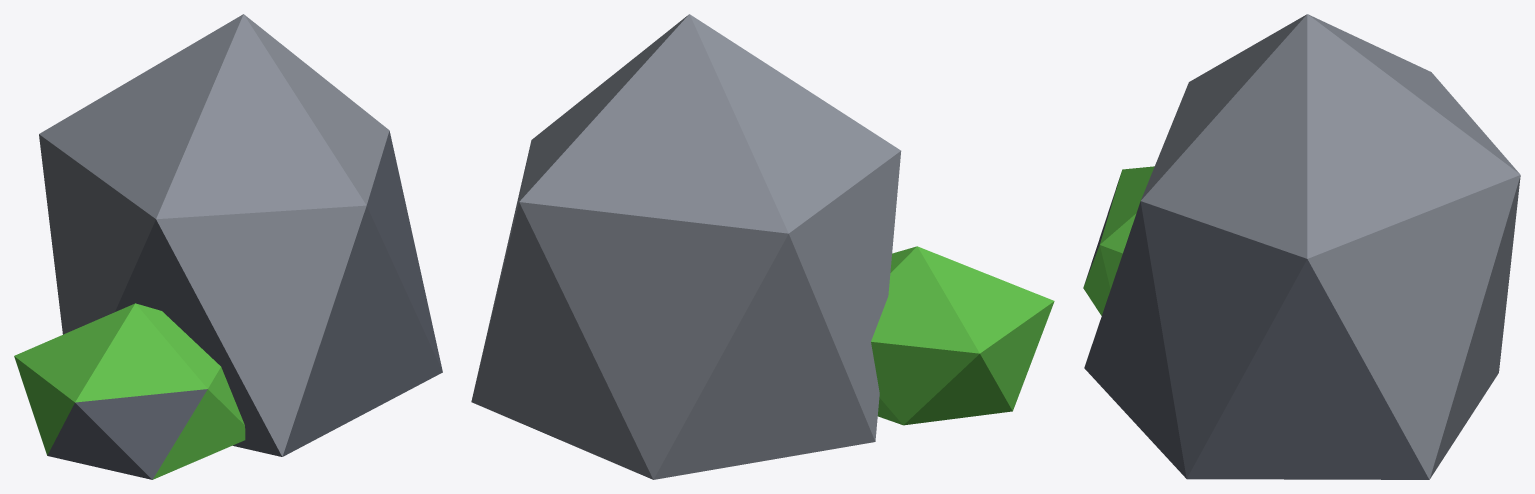
Rendered from Rock_B.fbx.
3 renders of one model, left to right at view 1: azimuth 30°, elevation 25°; view 2: azimuth 150°, elevation 25°; view 3: azimuth 270°, elevation 25°, orthographic. The views are drawn at different scales.
Parts seen in each view (by area): view 1: Rock_B; view 2: Rock_B; view 3: Rock_B.
Part boxes in pixels (x1,y1,x2,y2): Rock_B: (14,14,442,479); Rock_B: (471,14,1054,479); Rock_B: (1083,14,1520,479).
Bounding box in the file's own units: 4.51 × 3.81 × 3.9.
1 material, 1 textured.
